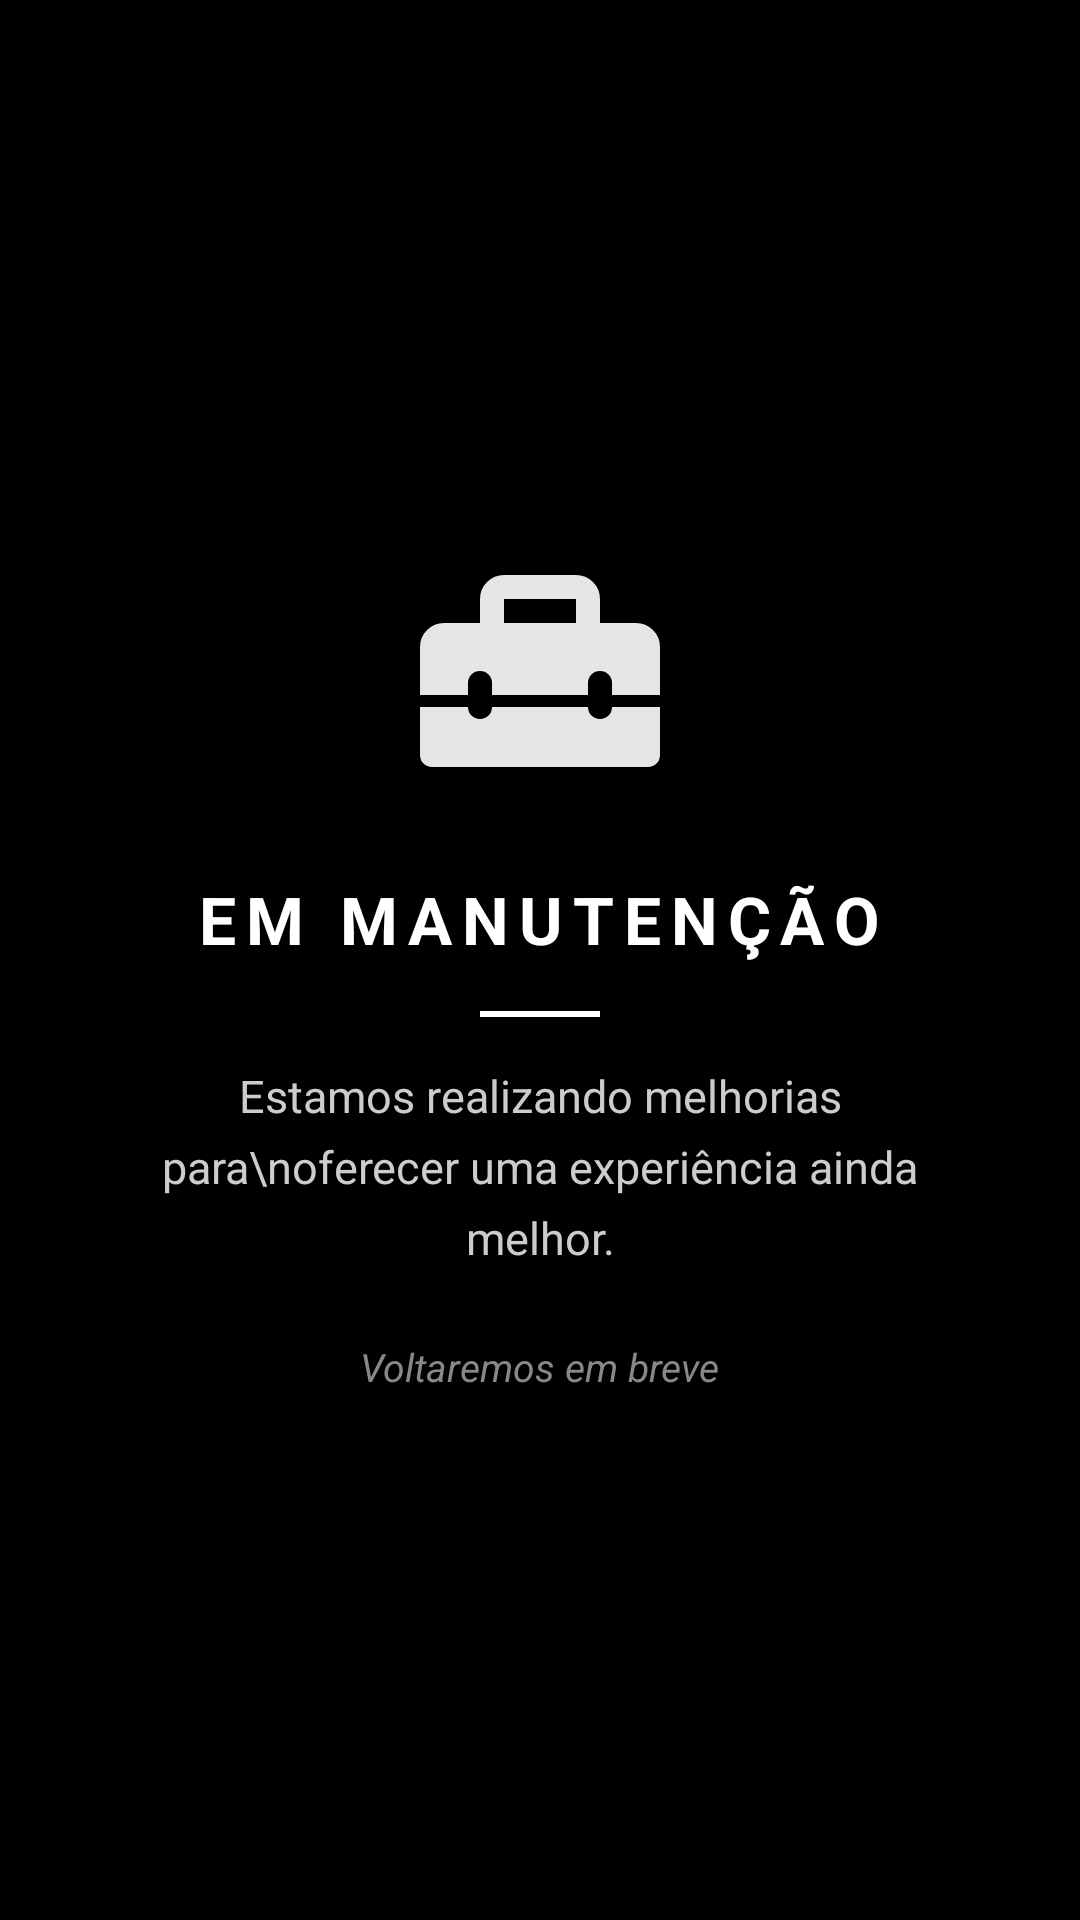

Screen size 1080 x 1920. Icon name, then its center in pixels as point (x, y):
Ícone de manutenção: point (540, 671)
